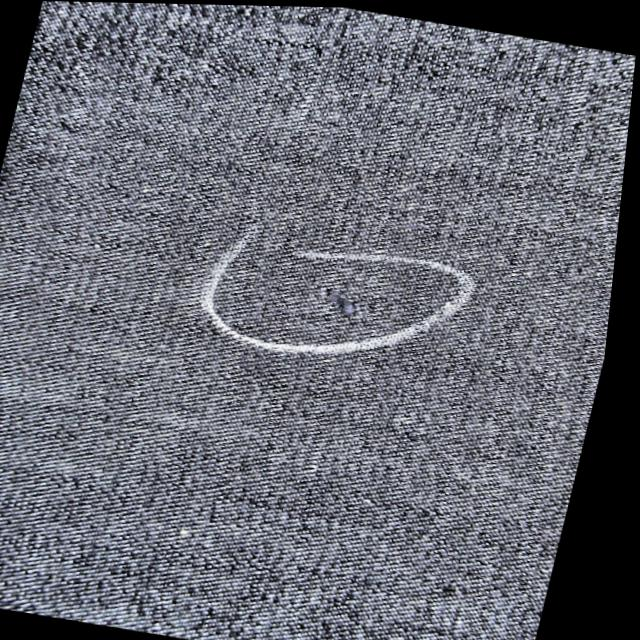Hole: (304, 276, 392, 325)
